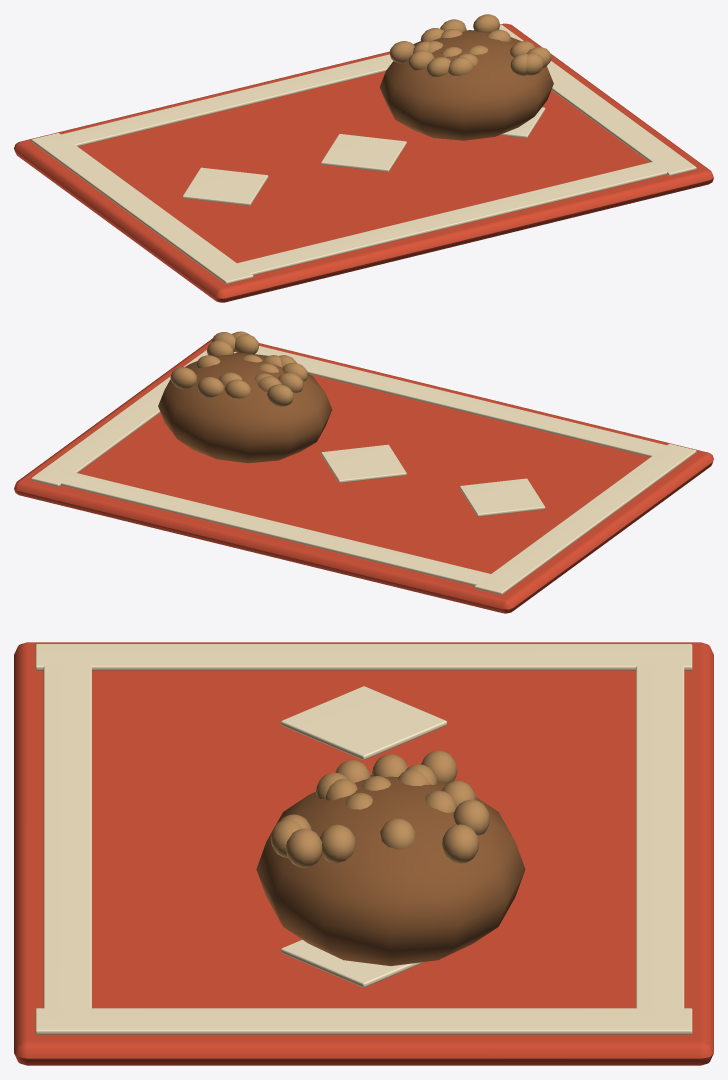
File: NJD-21.glb
The picture shows the model from 3 angles, top to bottom: view 1: azimuth 30°, elevation 25°; view 2: azimuth 150°, elevation 25°; view 3: azimuth 270°, elevation 25°; orthographic projection. The views are drawn at different scales.
Parts seen in each view (by area): view 1: woven mat, date basket, rug border.002, rug border, rug border.003, rug border.001, woven diamond, woven diamond.001; view 2: woven mat, date basket, rug border.003, rug border.002, rug border, rug border.001, woven diamond, woven diamond.001, date.005, date.002; view 3: woven mat, date basket, rug border.003, rug border.002, rug border.001, rug border, woven diamond, woven diamond.002, date.002, date.003, date.006, date.014 (+3 smaller).
Part boxes in pixels (box(x1,y1,x2,y2)): woven mat: box(14, 23, 713, 302); date basket: box(379, 30, 553, 140); rug border.002: box(237, 160, 678, 275); rug border: box(31, 133, 253, 284); rug border.003: box(49, 54, 393, 147); rug border.001: box(499, 24, 696, 175); woven diamond: box(182, 167, 268, 205); woven diamond.001: box(321, 134, 406, 172); woven mat: box(14, 338, 713, 613); date basket: box(158, 352, 332, 463); rug border.003: box(49, 469, 490, 585); rug border.002: box(234, 346, 666, 457); rug border: box(474, 443, 696, 594); rug border.001: box(31, 350, 236, 486); woven diamond: box(459, 478, 545, 516); woven diamond.001: box(321, 444, 406, 482); date.005: box(267, 384, 293, 406); date.002: box(170, 367, 197, 389); woven mat: box(14, 642, 713, 1065); date basket: box(256, 775, 525, 965); rug border.003: box(636, 655, 684, 1018); rug border.002: box(43, 655, 91, 1018); rug border.001: box(35, 1008, 692, 1034); rug border: box(35, 644, 692, 670); woven diamond: box(281, 686, 446, 759); woven diamond.002: box(281, 939, 424, 987); date.002: box(441, 824, 479, 863); date.003: box(285, 828, 322, 867); date.006: box(320, 824, 356, 863); date.014: box(453, 799, 490, 835).
Bounding box in the file's own units: 1.8 × 0.335 × 1.3.
